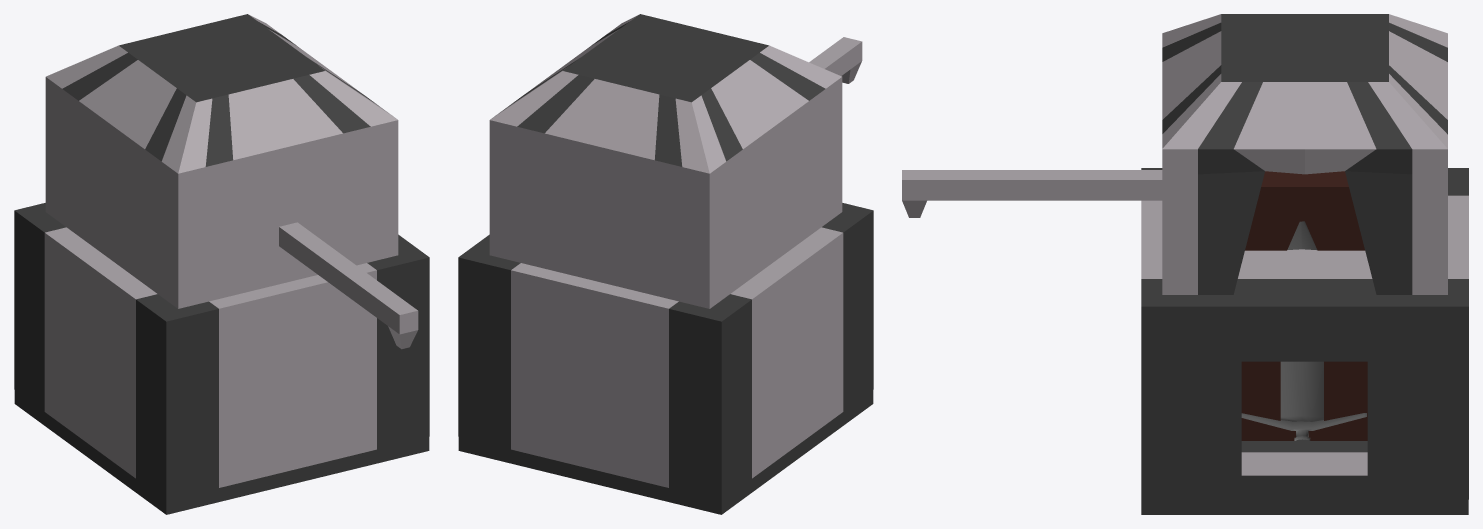
File: Forge.fbx
3 renders of one model, left to right at view 1: azimuth 30°, elevation 25°; view 2: azimuth 150°, elevation 25°; view 3: azimuth 270°, elevation 25°, orthographic. The views are drawn at different scales.
Visible parts, largest first — view 1: Cube, Cube.001, Cube.003, Cube.002; view 2: Cube, Cube.001, Cube.003, Cube.002; view 3: Cube, Cube.001, cast, Cube.002, Cube.003.
Part boxes in pixels (x1,y1,x2,y2): Cube: (14,203,429,500); Cube.001: (45,14,398,308); Cube.003: (14,390,429,514); Cube.002: (279,222,418,349); Cube: (458,203,873,500); Cube.001: (489,14,842,308); Cube.003: (458,390,873,514); Cube.002: (809,37,862,83); Cube: (1141,168,1468,499); Cube.001: (1162,14,1447,294); cast: (1241,171,1367,440); Cube.002: (902,170,1162,217); Cube.003: (1141,439,1468,514).
Size of the model in its own units: 601 by 880 by 1040.
